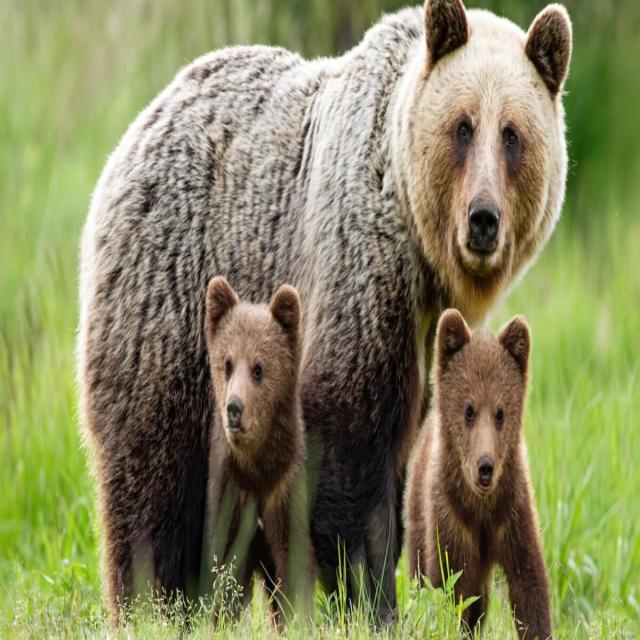Bear: (75, 0, 574, 631), (426, 310, 554, 640), (203, 278, 306, 631)
